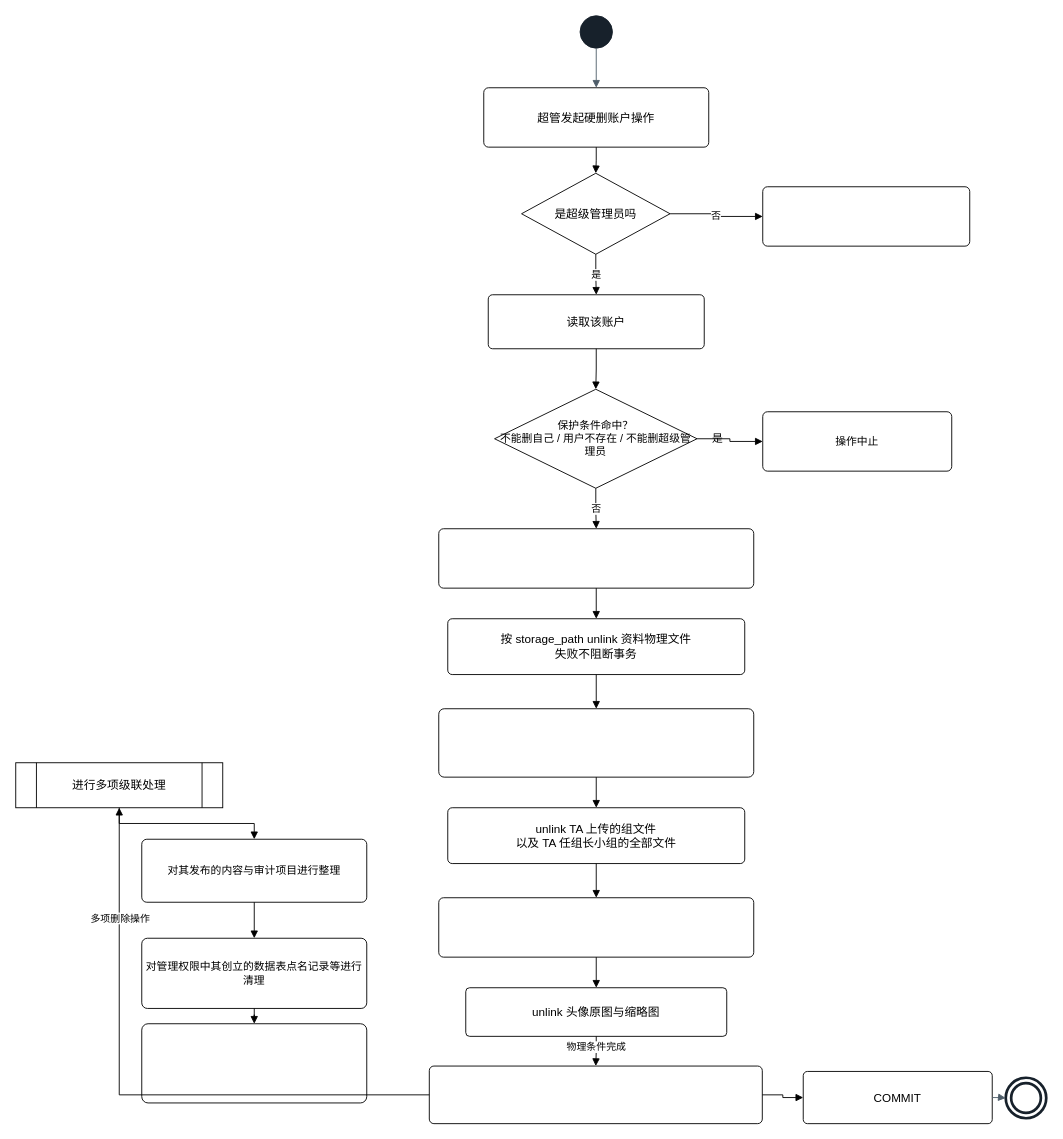
The diagram is 1063 pixels wide and 1139 high, and some of its shapes have lost their labels. Here are the shapes that lost their labels. From the top down, the centre of each, then its label:
point 866,216: 拒绝操作
point 596,558: 查询资料资源文件
point 596,742: 查询组内文件
point 596,927: 解析头像 URL 尾段
point 254,1063: 对其发布的小组的组内资源进行清理
point 595,1094: 直接强制删除user行
